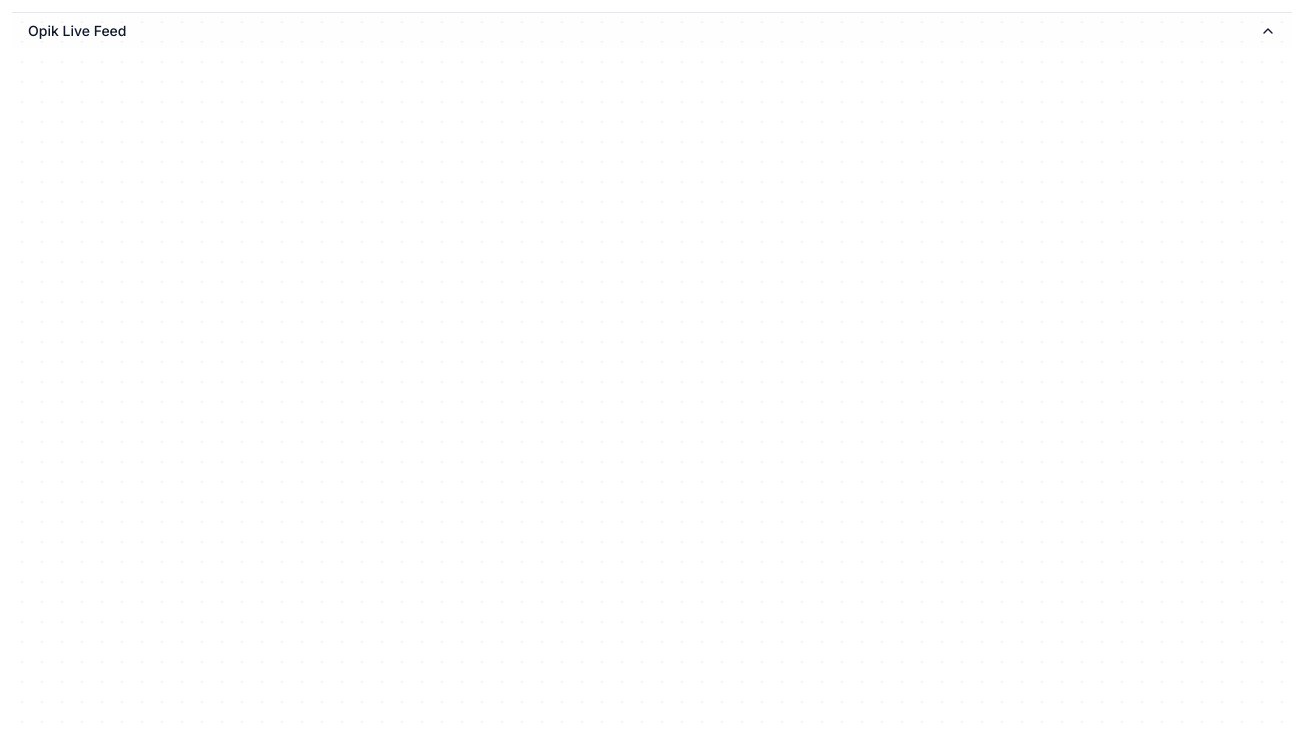
Scenario: OpikLiveFeedPanel › displays events when available
This screenshot has width=1304, height=732.
Click the button "Opik Live Feed": [77, 30] box 12,13 -> 1292,49
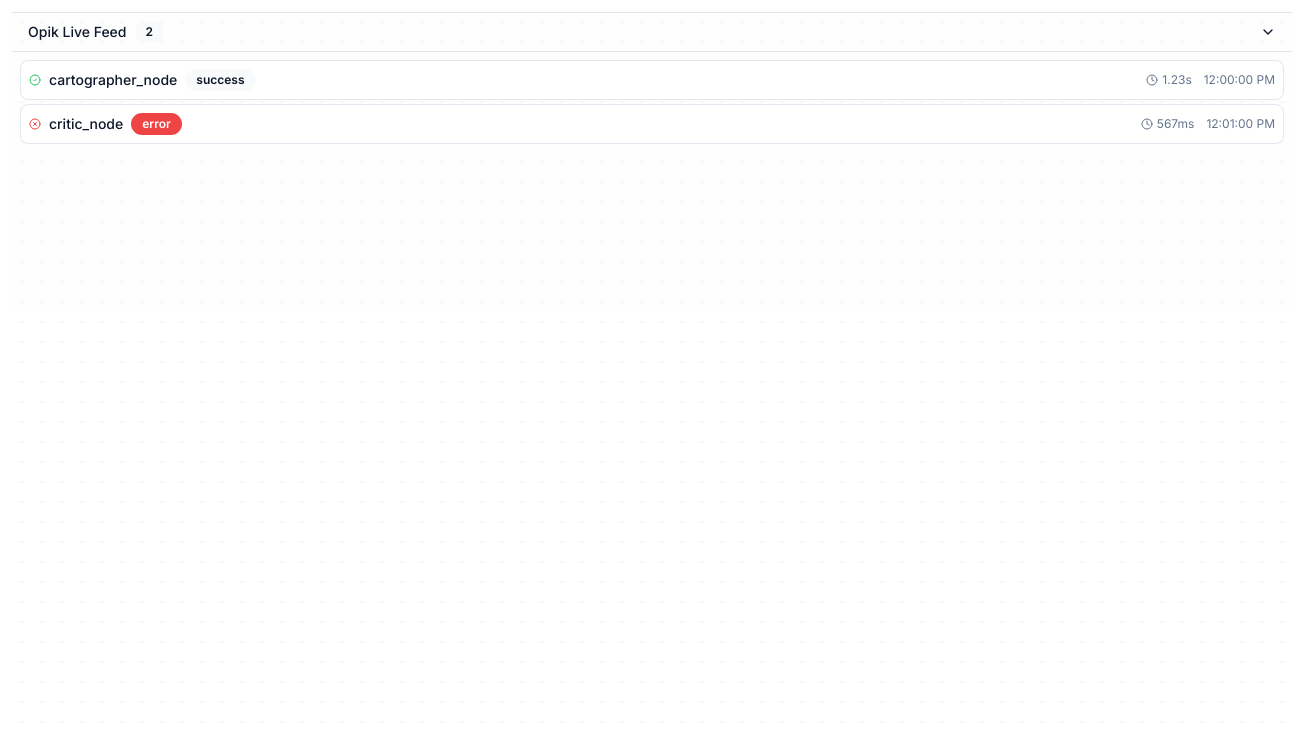
Result: the text "cartographer_node" is shown at 49,70 -> 177,90
Result: the text "critic_node" is shown at 49,114 -> 123,134
